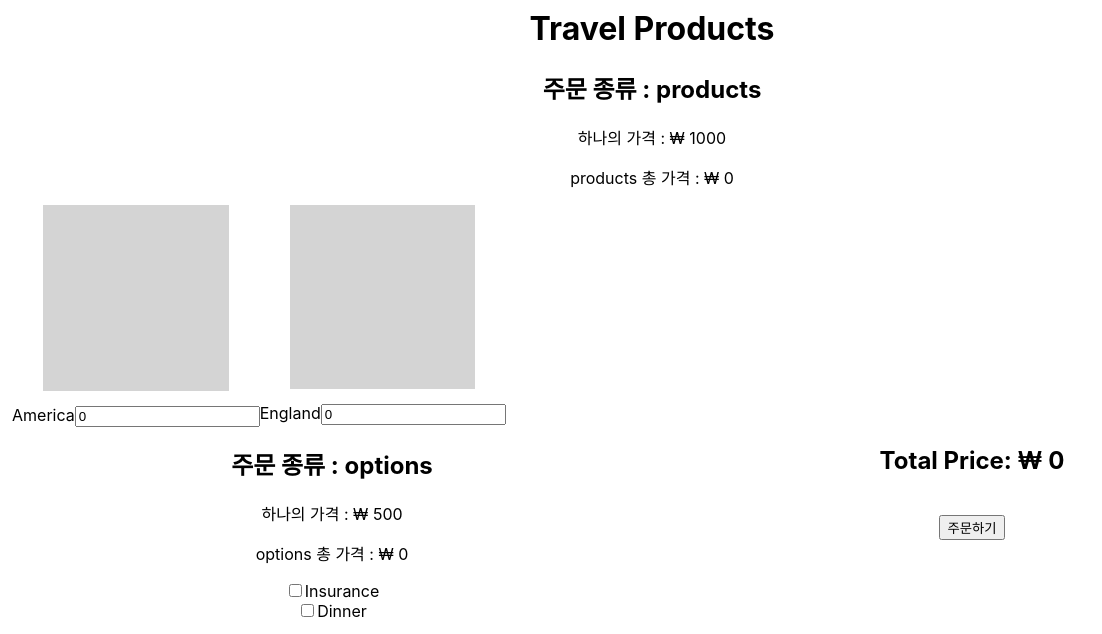
Test: total price of products and options › total price starts with 0 and updating the price adding a product
This screenshot has width=1102, height=634.
Expected: the heading "Total Price: ₩ 0" is shown, left=880, top=446, right=1064, bottom=476
Step 1. Replace the text in the number field labelled "America" with "1" → (167, 416), box left=75, top=406, right=260, bottom=427
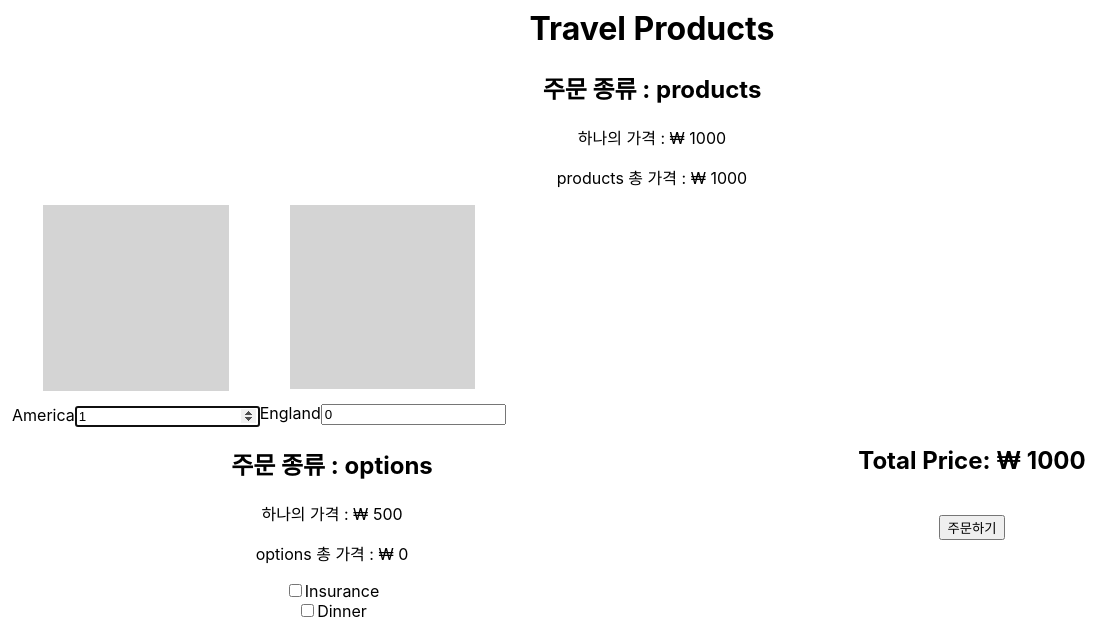
Expected: the heading "Total Price: ₩ 1000" is shown, left=858, top=446, right=1086, bottom=476
